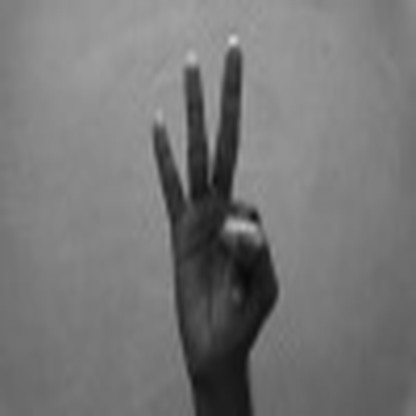f: (128, 28, 293, 370)
